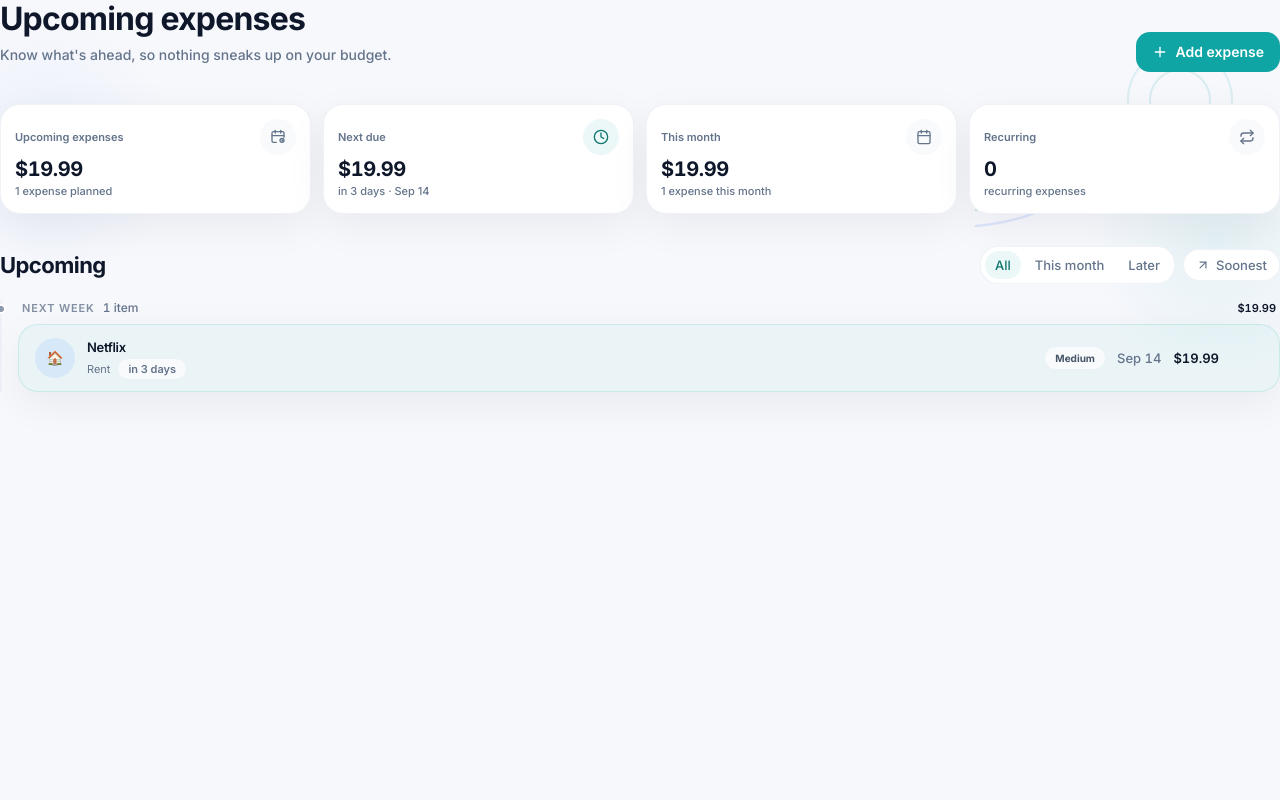
UpcomingView › opens the edit form when a row is clicked
What coordinates should you click on to do the following:
click the button "🏠 Netflix Rent in 3 days Medium Sep 14 $19.99"
I would click on:
 (55, 358)
Its box is x1=35 y1=337 x2=1219 y2=379.
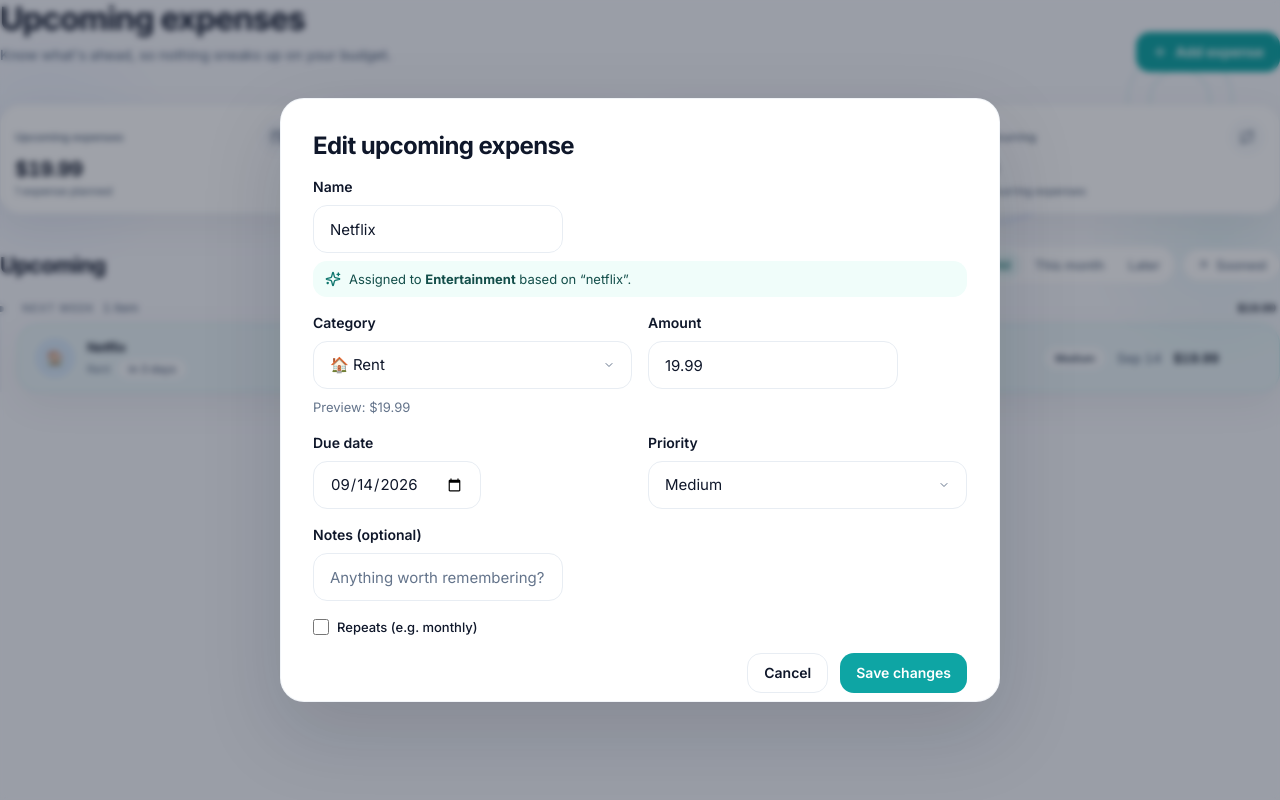
Expected: the heading "Edit upcoming expense" is shown, x1=313 y1=131 x2=574 y2=160
Expected: the field labelled "Name" holds "Netflix", x1=313 y1=205 x2=563 y2=253
Expected: the field labelled "Amount" holds "19.99", x1=648 y1=341 x2=898 y2=389
